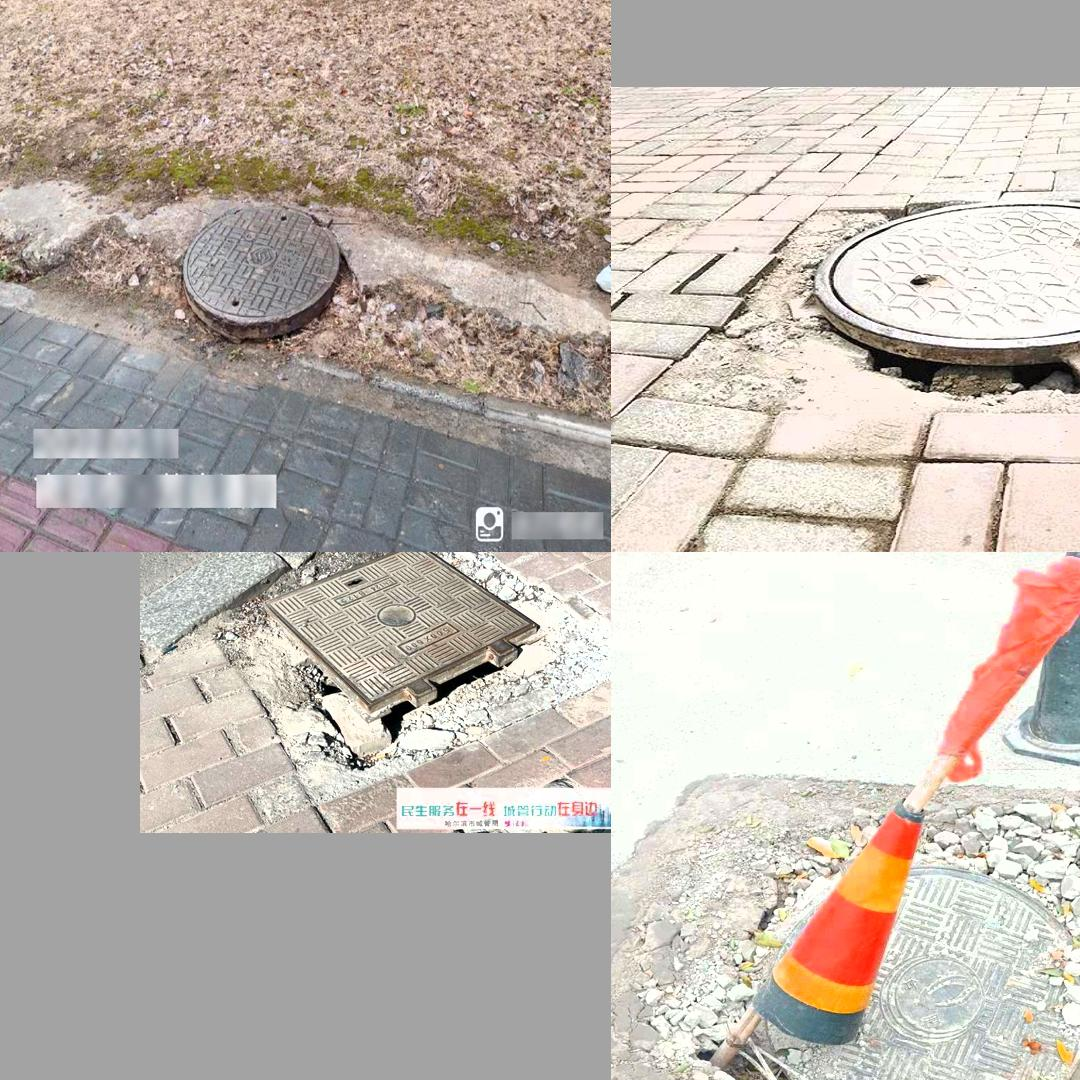circle: (666, 187, 1080, 441), (216, 556, 606, 776), (724, 858, 1080, 1080), (179, 199, 347, 338)
